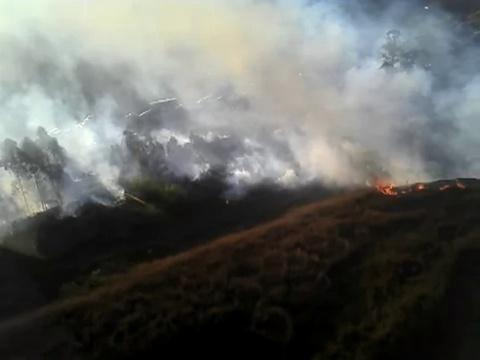smoke: (94, 7, 255, 68), (287, 69, 388, 164)
